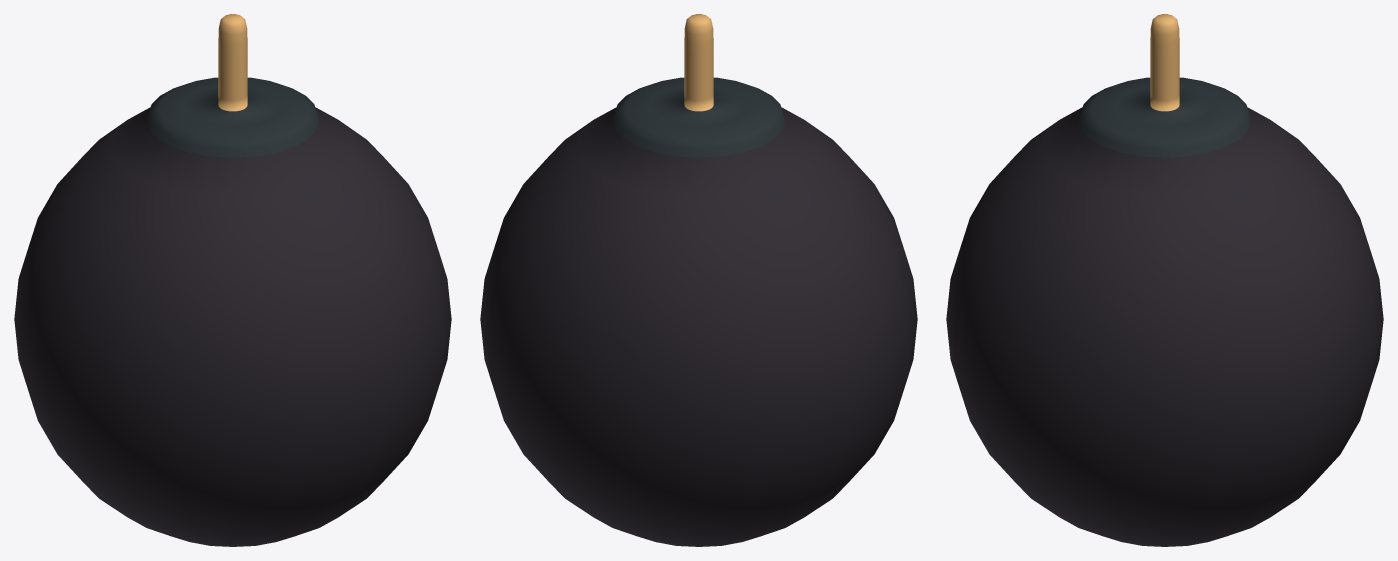
Rendered from bomb.fbx.
The picture shows the model from 3 angles, left to right: view 1: azimuth 30°, elevation 25°; view 2: azimuth 150°, elevation 25°; view 3: azimuth 270°, elevation 25°; orthographic projection.
Visible parts, largest first — view 1: Bomb; view 2: Bomb; view 3: Bomb.
Boxes of the visible parts, <box> form: Bomb: <box>14,14,451,546</box>; Bomb: <box>480,14,917,546</box>; Bomb: <box>946,14,1383,546</box>.
Bounding box in the file's own units: 183 × 235 × 183.
